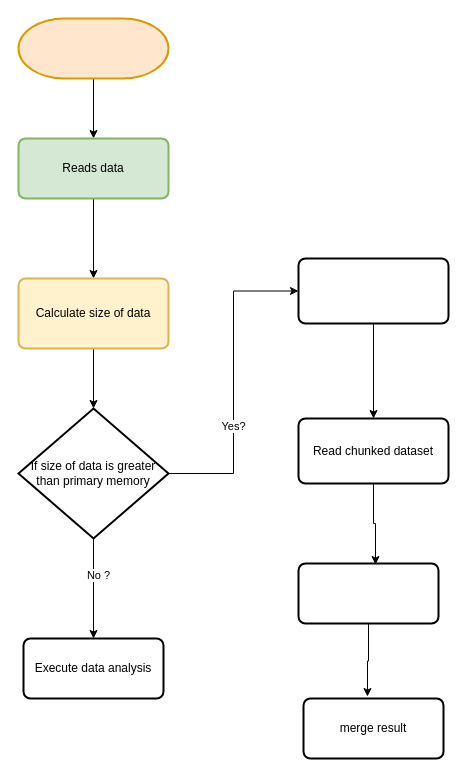
Image size: 466x776. Some labels were removed from this diagram. The centre of each missing label's shape, as x and y in pixels:
"Chunk Data and store in Secondary memory" goes at (373,290).
"Execute data analysis and store result in the disk memory" goes at (368,593).
"Start" goes at (93,48).
